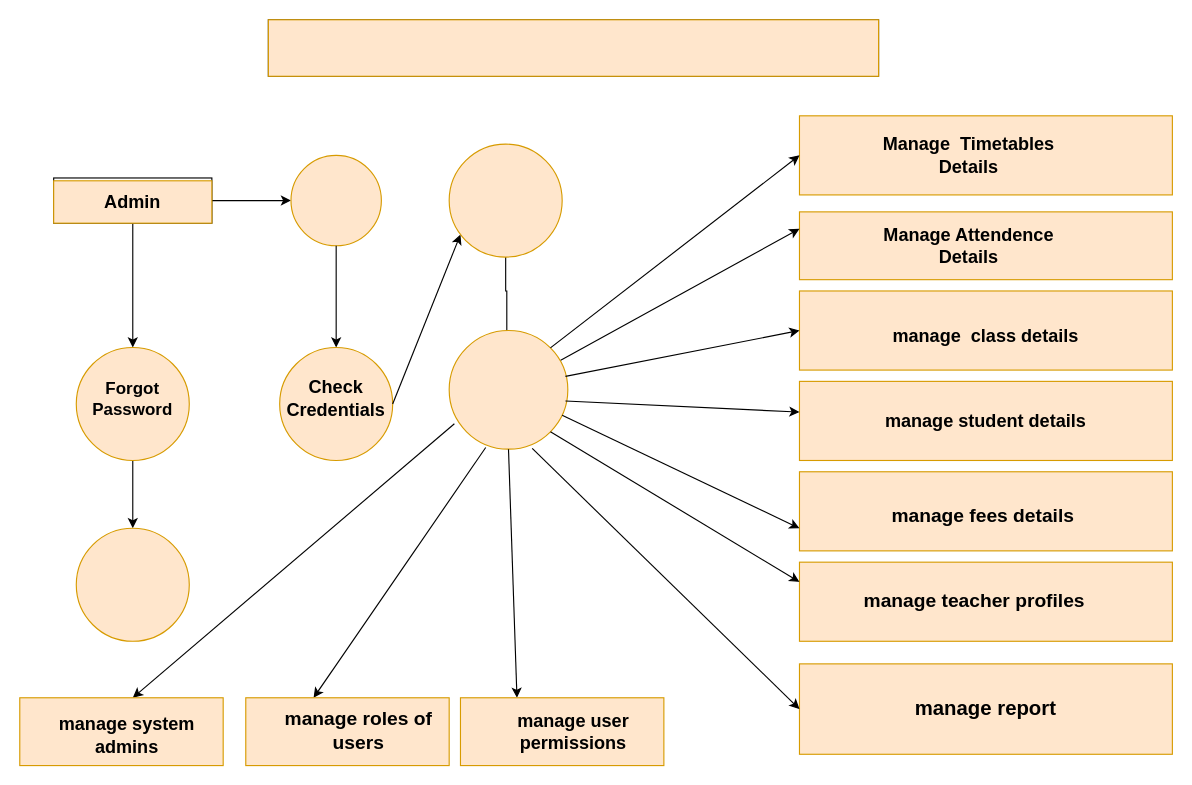
Some shapes in this 1192 by 785 pixel diagram are drawn without their labels. The shapes that lost their labels are listed below. From the top down, each one's centre as x and y in pixels, then its label:
point (573, 47): Student Information System
point (335, 200): Login to system
point (505, 200): Check role of Access
point (508, 389): Manage Moudles
point (132, 584): send email to user
